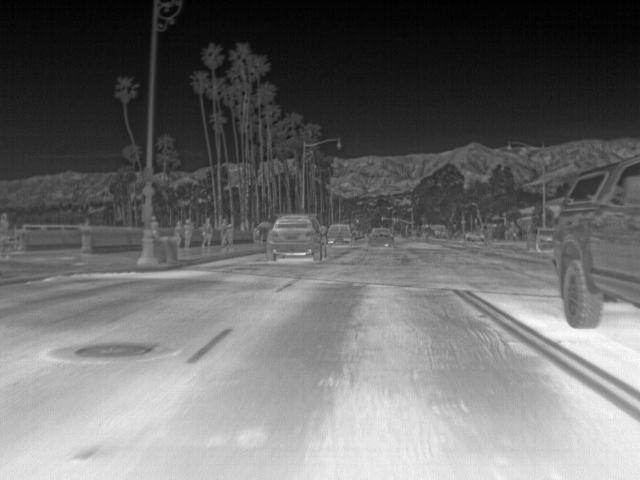car: (549, 152, 640, 329), (264, 213, 324, 260), (528, 223, 554, 254), (326, 221, 354, 247), (367, 227, 396, 247), (461, 228, 488, 244), (426, 224, 449, 241)
person: (199, 216, 214, 248), (217, 216, 229, 250), (181, 218, 194, 248), (173, 217, 188, 243), (225, 221, 237, 251)
